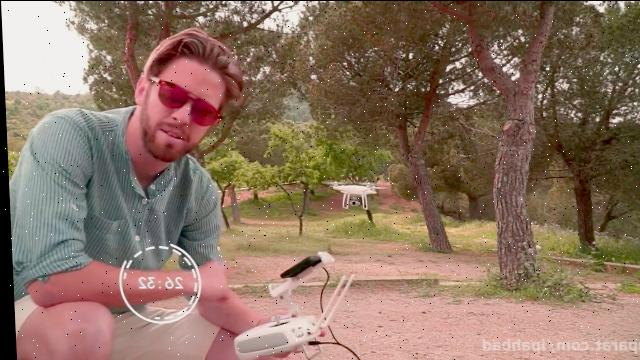drone: (318, 176, 386, 209)
